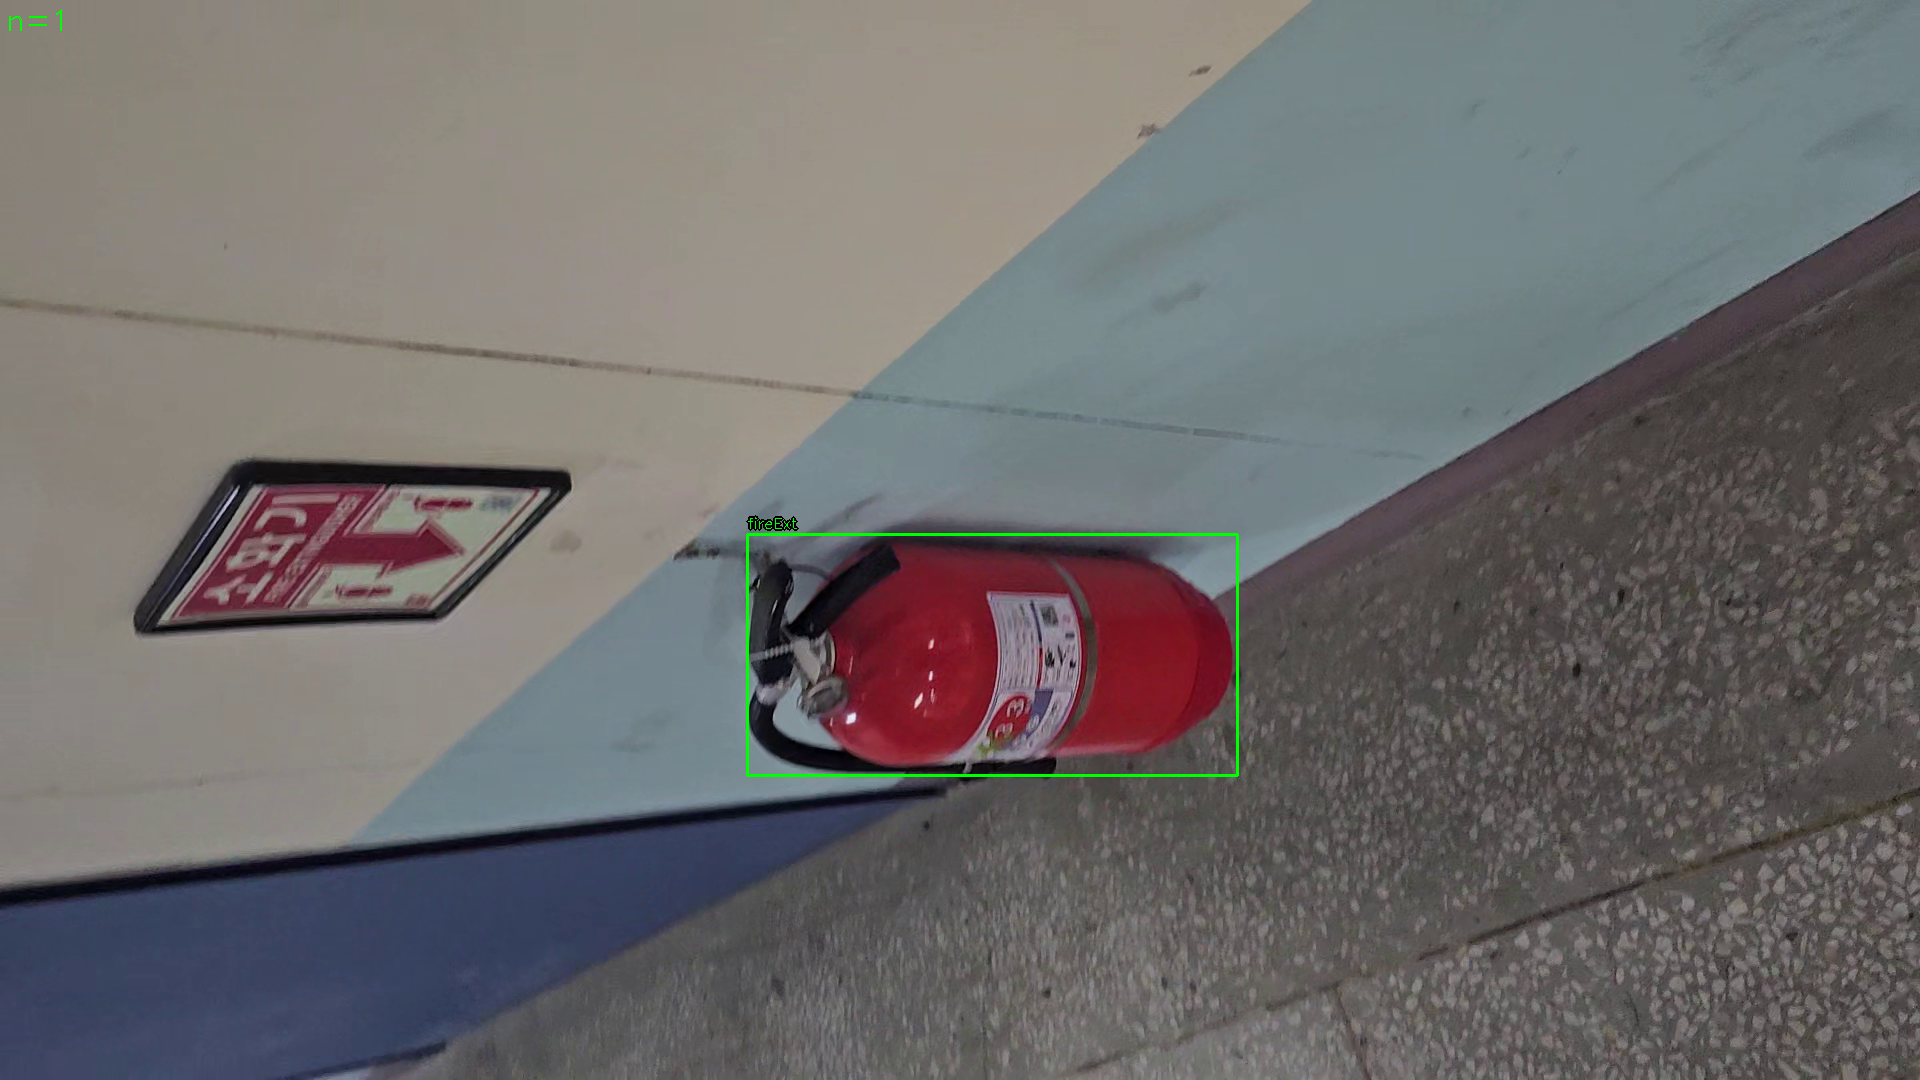lane: (746, 534, 1238, 775)
